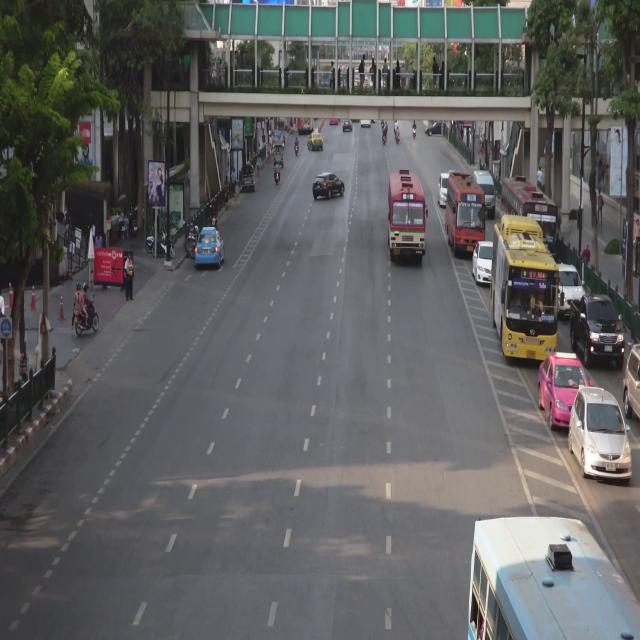bus: (470, 519, 640, 640), (495, 215, 556, 362), (501, 178, 557, 269), (389, 174, 423, 263), (448, 173, 485, 254), (298, 119, 314, 133)
car: (569, 388, 633, 483), (570, 295, 625, 367), (556, 262, 584, 316), (625, 344, 640, 422), (474, 241, 494, 284), (475, 172, 494, 216), (313, 174, 344, 198), (241, 163, 254, 191), (439, 173, 448, 207), (425, 123, 447, 135), (274, 145, 284, 167), (343, 119, 352, 131)
pedestrian: (124, 254, 133, 301), (597, 187, 603, 223), (582, 242, 590, 264), (95, 231, 103, 250), (231, 168, 236, 196), (537, 165, 543, 187), (634, 219, 640, 241), (225, 176, 229, 205), (256, 154, 261, 177), (124, 211, 128, 239), (188, 166, 191, 189), (267, 142, 270, 164), (269, 135, 272, 154), (262, 133, 266, 145)
taxi: (538, 358, 590, 432), (196, 227, 224, 268), (308, 131, 323, 151)
